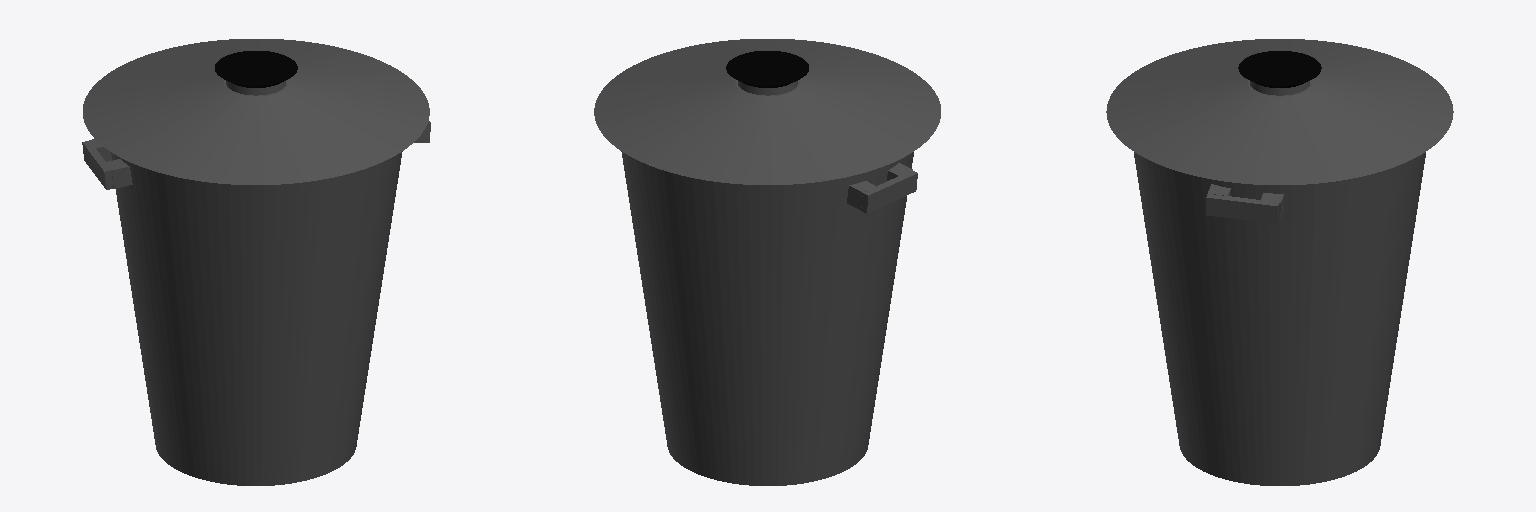
File: kanta.obj
The picture shows the model from 3 angles: view 1: azimuth 30°, elevation 25°; view 2: azimuth 150°, elevation 25°; view 3: azimuth 270°, elevation 25°; orthographic projection.
Visible parts, largest first — view 1: Cube, Cube.001, Cube.003, Cube.009; view 2: Cube, Cube.001, Cube.003, Cube.009; view 3: Cube, Cube.001, Cube.003, Cube.006.
Part boxes in pixels (bbox=[...]): Cube: bbox=[111, 151, 402, 485]; Cube.001: bbox=[83, 39, 429, 184]; Cube.003: bbox=[215, 51, 297, 87]; Cube.009: bbox=[82, 140, 113, 189]; Cube: bbox=[621, 151, 913, 485]; Cube.001: bbox=[594, 39, 940, 184]; Cube.003: bbox=[726, 51, 808, 87]; Cube.009: bbox=[861, 170, 917, 213]; Cube: bbox=[1134, 152, 1425, 485]; Cube.001: bbox=[1106, 39, 1453, 184]; Cube.003: bbox=[1238, 51, 1321, 87]; Cube.006: bbox=[1206, 194, 1279, 223].
Bounding box in the file's own units: 0.8658 × 1.03 × 0.8627.